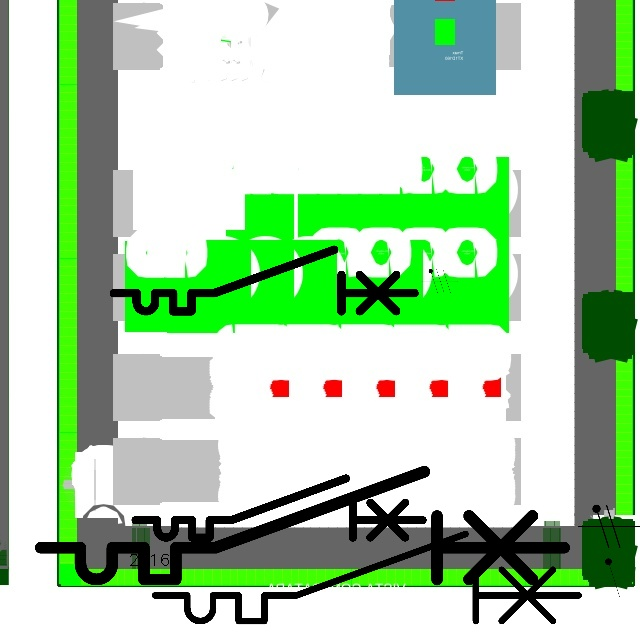interruptor_termomagnetico: (27, 458, 578, 593), (144, 523, 589, 632), (106, 242, 422, 319), (128, 471, 430, 545)
